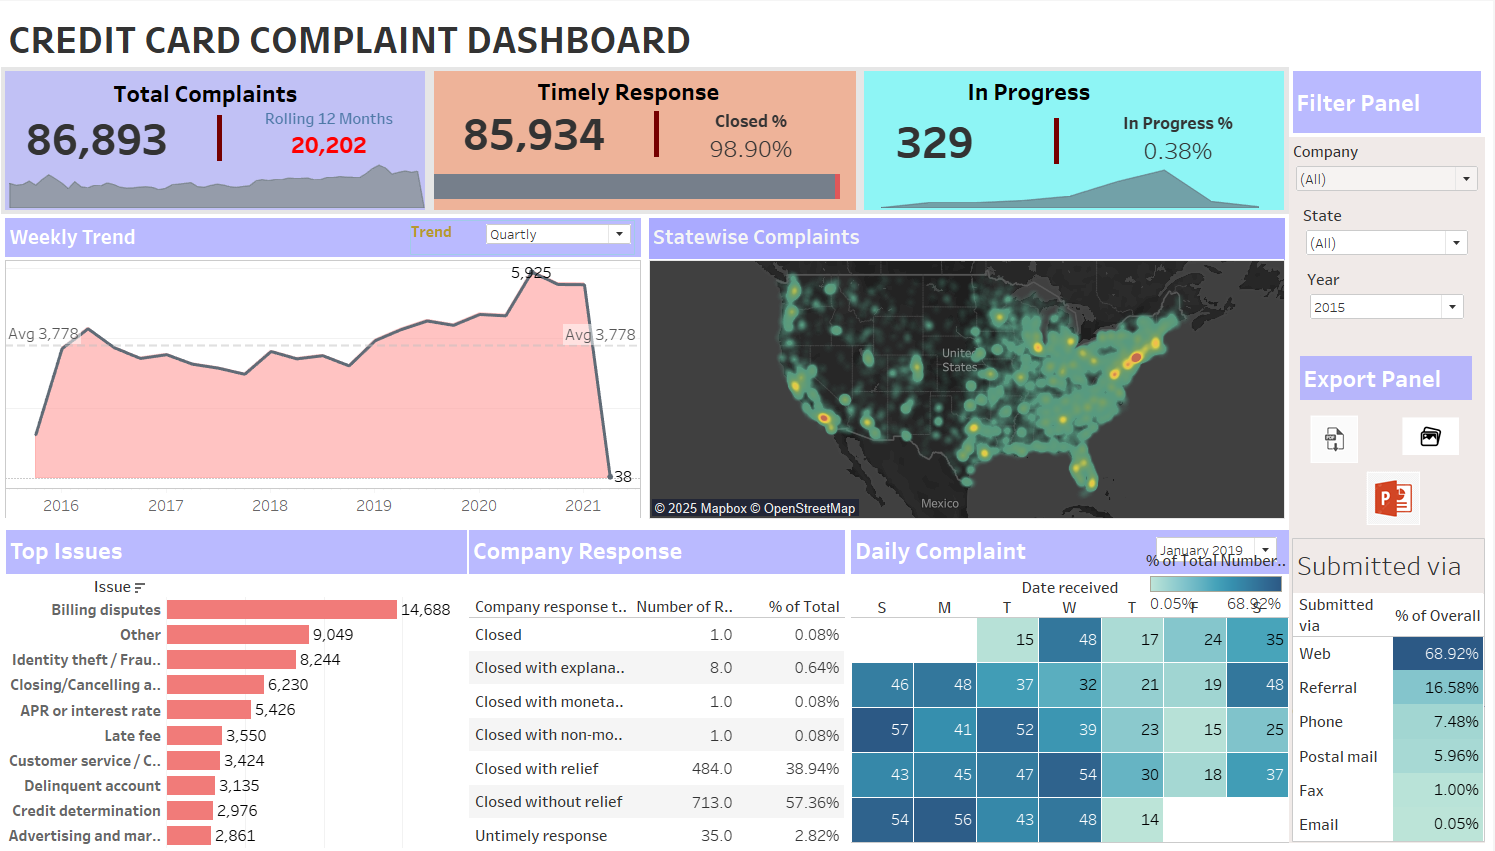

What the dashboard file says about the page in this screenshot:
{"tool":"tableau","page":{"name":"Dashboard 1","canvas":[1500,850],"ordinal":0},"visuals":[{"type":"title","box":[8,8,1288,58]},{"type":"blank","box":[8,66,428.5,146.9]},{"type":"blank","box":[436.5,66,431,146.9]},{"type":"blank","box":[867.5,66,428.5,146.9]},{"type":"text","box":[1296,66,196,70]},{"type":"text","box":[971,71,199,37]},{"type":"text","box":[541,72,199,35]},{"type":"text","box":[117,74,199,35]},{"type":"worksheet","title":"Rolling 12 month complaints","mark":"Automatic","box":[246,105,180,56]},{"type":"worksheet","title":"Closed %","mark":"Automatic","box":[658,107,200,56]},{"type":"blank","box":[661,110,5,46]},{"type":"worksheet","title":"In Progress %","mark":"Automatic","box":[1091,110,188,54]},{"type":"worksheet","title":"Timely Response","mark":"Automatic","box":[452,111,178,40]},{"type":"worksheet","title":"Total Complaints","mark":"Automatic","box":[27,113,153,45]},{"type":"worksheet","title":"In Progress Complaint","mark":"Automatic","box":[881,113,122,51]},{"type":"blank","box":[224,114,5,46]},{"type":"blank","box":[1061,117,5,46]},{"type":"filter","title":"Daily Complaint","param":"[federated.1a0pc3t0dchgm11ganihz09a2rxd].[none:Company:nk]","box":[1296,136,196,61]},{"type":"worksheet","title":"In Progress Line Graph","mark":"Area","rows":["Calculation_6324179839849504771"],"cols":["Date received"],"box":[868,167,418,40]},{"type":"worksheet","title":"Progress Bar","mark":"Bar","cols":["Calculation_6324179839848214530","Calculation_6324179839846809600"],"box":[441,169,426,33]},{"type":"blank","box":[1296,197,196,352]},{"type":"filter","title":"Daily Complaint","param":"[federated.1a0pc3t0dchgm11ganihz09a2rxd].[none:State:nk]","box":[1310,204,168,61]},{"type":"worksheet","title":"Trend","mark":"Automatic","rows":["Number of Records","Number of Records"],"cols":["Calculation_6324179839865462789"],"box":[8,212.8,644,309]},{"type":"worksheet","title":"Density Map","mark":"Heatmap","box":[652,212.8,644,309.2]},{"type":"parameter","param":"[Parameters].[Parameter 1]","box":[417,219,225,35]},{"type":"filter","title":"Company Response","param":"[federated.1a0pc3t0dchgm11ganihz09a2rxd].[yr:Date received:ok]","box":[1314,268,160,108]},{"type":"text","box":[1303,351,180,52]},{"type":"dashboard-object","box":[1409,410,57,52]},{"type":"dashboard-object","box":[1309,414,64,48]},{"type":"dashboard-object","box":[1373,469,54,56]},{"type":"worksheet","title":"Top Issues","mark":"Automatic","rows":["Issue"],"cols":["Number of Records"],"box":[13,529,461,318]},{"type":"worksheet","title":"Company Response","mark":"Automatic","rows":["Company response to consumer"],"box":[476,529,376,323]},{"type":"worksheet","title":"Daily Complaint","mark":"Square","rows":["Date received"],"cols":["Date received"],"box":[858,529,438,313]},{"type":"filter","title":"Daily Complaint","param":"[federated.1a0pc3t0dchgm11ganihz09a2rxd].[my:Date received:ok]","box":[1088,533,199,35]},{"type":"worksheet","title":"Submitted via","mark":"Square","rows":["Submitted via"],"box":[1300,543,191,298]},{"type":"legend","title":"Submitted via","param":"[federated.1a0pc3t0dchgm11ganihz09a2rxd].[pcto:sum:Number of Records:qk:2]","box":[1153,549,140,88]}]}

Visuals, with their boxes in screenshot pixels (x1, y1, x2, y2), scaled from the page's 1500x850 canvas onto the 1495x851 screenshot:
title: <bbox>8, 8, 1292, 66</bbox>
blank: <bbox>8, 66, 435, 213</bbox>
blank: <bbox>435, 66, 865, 213</bbox>
blank: <bbox>865, 66, 1292, 213</bbox>
text: <bbox>1292, 66, 1487, 136</bbox>
text: <bbox>968, 71, 1166, 108</bbox>
text: <bbox>539, 72, 738, 107</bbox>
text: <bbox>117, 74, 315, 109</bbox>
"Rolling 12 month complaints" worksheet: <bbox>245, 105, 425, 161</bbox>
"Closed %" worksheet: <bbox>656, 107, 855, 163</bbox>
blank: <bbox>659, 110, 664, 156</bbox>
"In Progress %" worksheet: <bbox>1087, 110, 1275, 164</bbox>
"Timely Response" worksheet: <bbox>450, 111, 628, 151</bbox>
"Total Complaints" worksheet: <bbox>27, 113, 179, 158</bbox>
"In Progress Complaint" worksheet: <bbox>878, 113, 1000, 164</bbox>
blank: <bbox>223, 114, 228, 160</bbox>
blank: <bbox>1057, 117, 1062, 163</bbox>
"Daily Complaint" filter: <bbox>1292, 136, 1487, 197</bbox>
"In Progress Line Graph" worksheet (Area marks): <bbox>865, 167, 1282, 207</bbox>
"Progress Bar" worksheet (Bar marks): <bbox>440, 169, 864, 202</bbox>
blank: <bbox>1292, 197, 1487, 550</bbox>
"Daily Complaint" filter: <bbox>1306, 204, 1473, 265</bbox>
"Trend" worksheet: <bbox>8, 213, 650, 522</bbox>
"Density Map" worksheet (Heatmap marks): <bbox>650, 213, 1292, 523</bbox>
parameter: <bbox>416, 219, 640, 254</bbox>
"Company Response" filter: <bbox>1310, 268, 1469, 376</bbox>
text: <bbox>1299, 351, 1478, 403</bbox>
dashboard-object: <bbox>1404, 410, 1461, 463</bbox>
dashboard-object: <bbox>1305, 414, 1368, 463</bbox>
dashboard-object: <bbox>1368, 470, 1422, 526</bbox>
"Top Issues" worksheet: <bbox>13, 530, 472, 848</bbox>
"Company Response" worksheet: <bbox>474, 530, 849, 850</bbox>
"Daily Complaint" worksheet (Square marks): <bbox>855, 530, 1292, 843</bbox>
"Daily Complaint" filter: <bbox>1084, 534, 1283, 569</bbox>
"Submitted via" worksheet (Square marks): <bbox>1296, 544, 1486, 842</bbox>
"Submitted via" legend: <bbox>1149, 550, 1289, 638</bbox>
